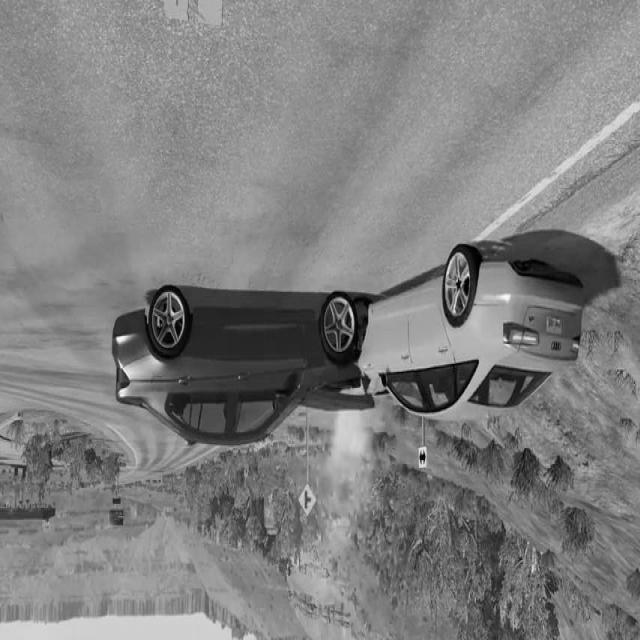moderate: (107, 243, 588, 457)
